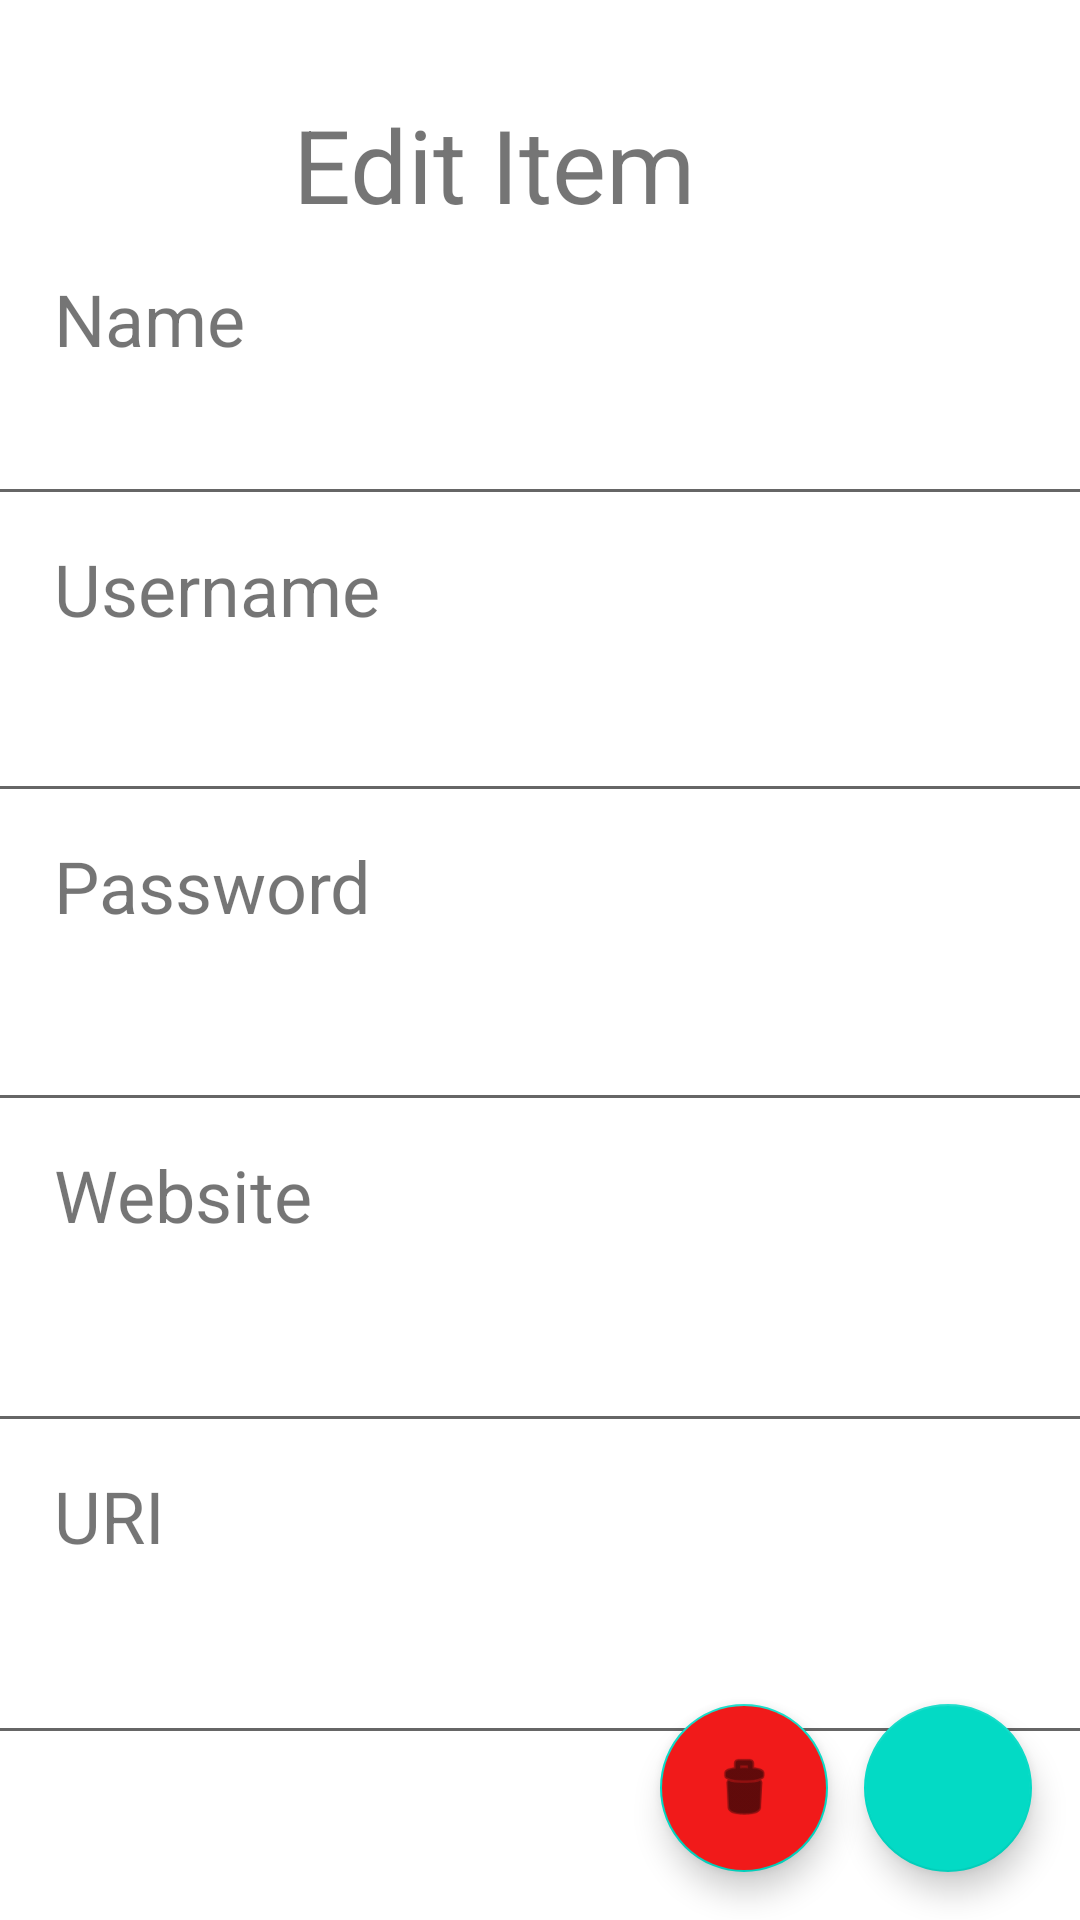

Icons on this 1080 × 1920 Android screen, each with the point to tap as (x,y):
delete: (744,1788)
